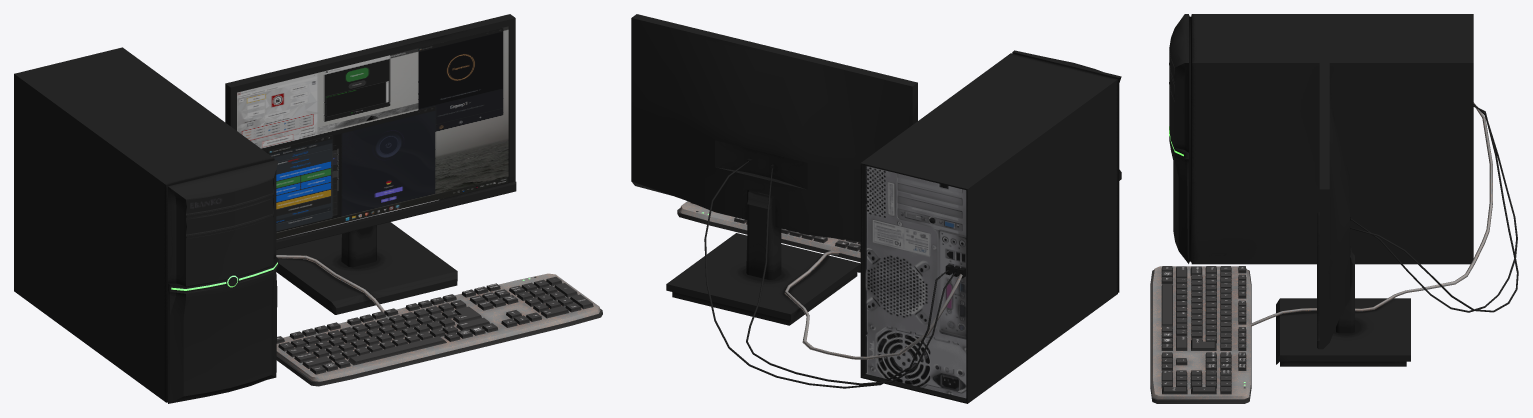
Rendered from personal_computer.glb.
The picture shows the model from 3 angles, left to right: view 1: azimuth 30°, elevation 25°; view 2: azimuth 150°, elevation 25°; view 3: azimuth 270°, elevation 25°; orthographic projection. The views are drawn at different scales.
Parts seen in each view (by area): view 1: Cube; view 2: Cube; view 3: Cube.
Part boxes in pixels (x1=…): Cube: x1=14, y1=14, x2=602, y2=403; Cube: x1=631, y1=14, x2=1121, y2=403; Cube: x1=1150, y1=14, x2=1518, y2=403.
Size of the model in its own units: 1.36 by 0.7227 by 1.12.
4 materials, 3 textured.
